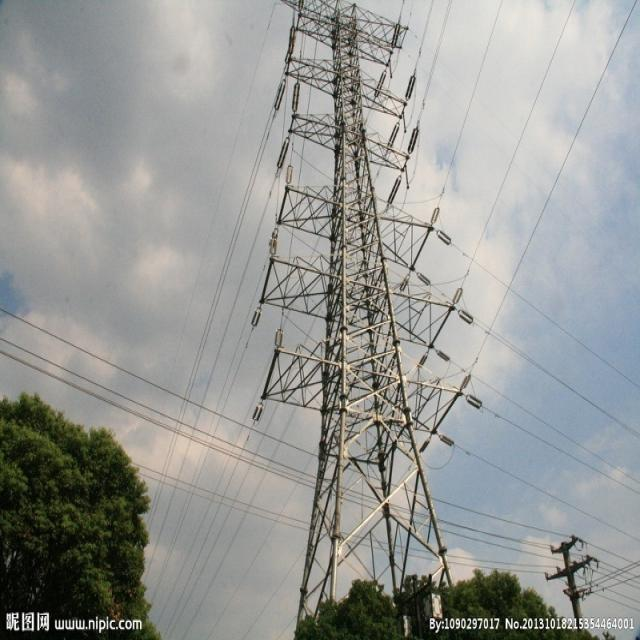non-critical vegetation: (245, 2, 498, 624)
